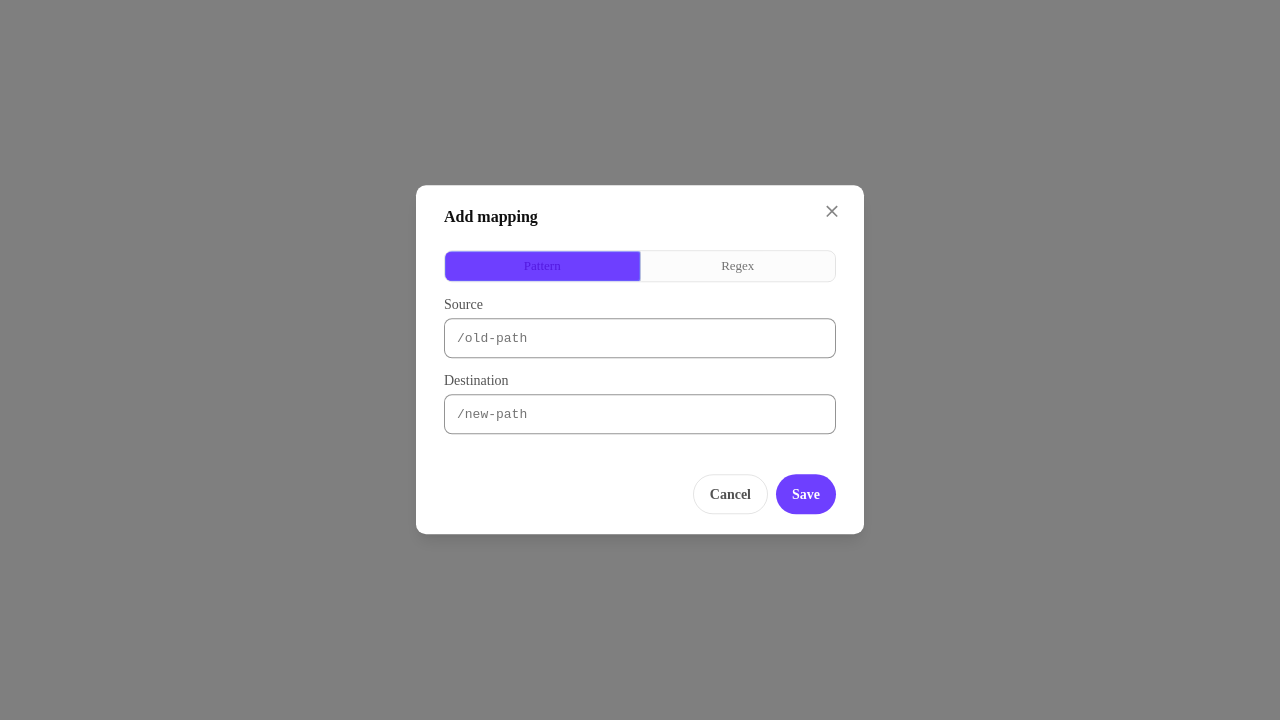
Test: T023a/T023 — Save-time validation › $0 reference in destination is rejected with appropriate message
The image size is (1280, 720).
Click the button "Regex" at (737, 266), box 640,251 -> 835,282
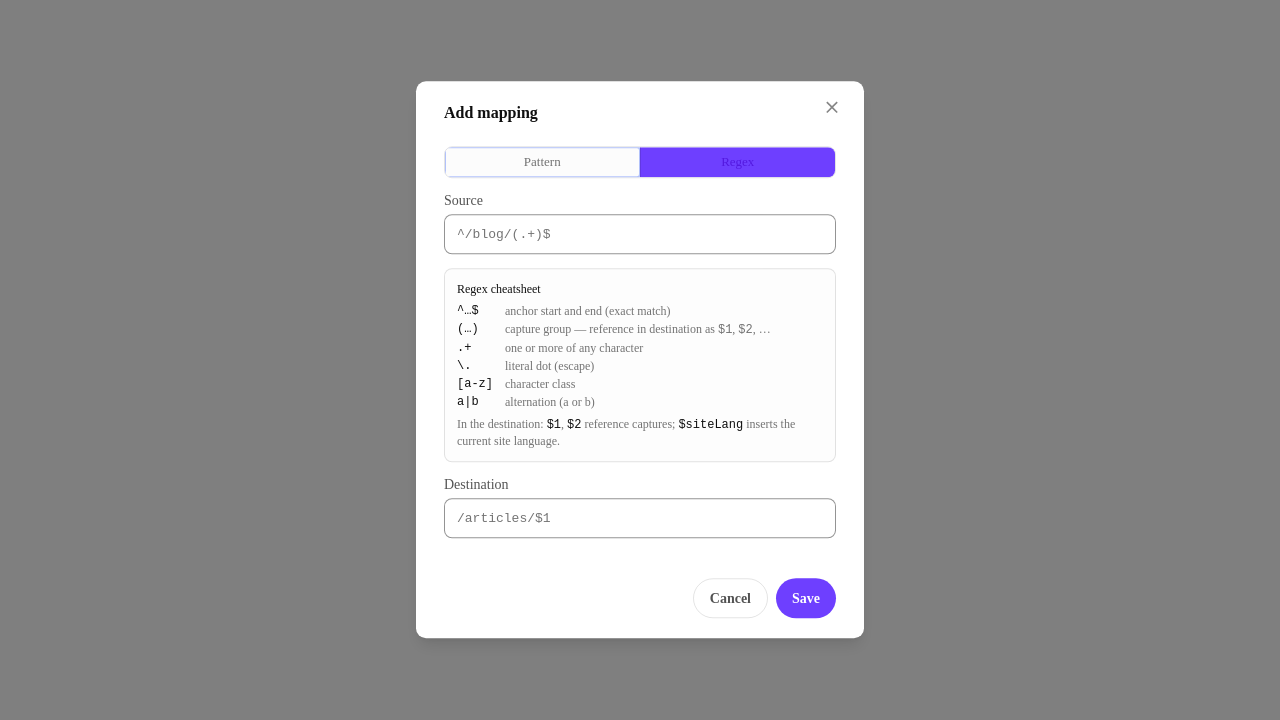
Type "^/test/(.+)$" into the field labelled "Source" at (640, 235), box 444,215 -> 836,255
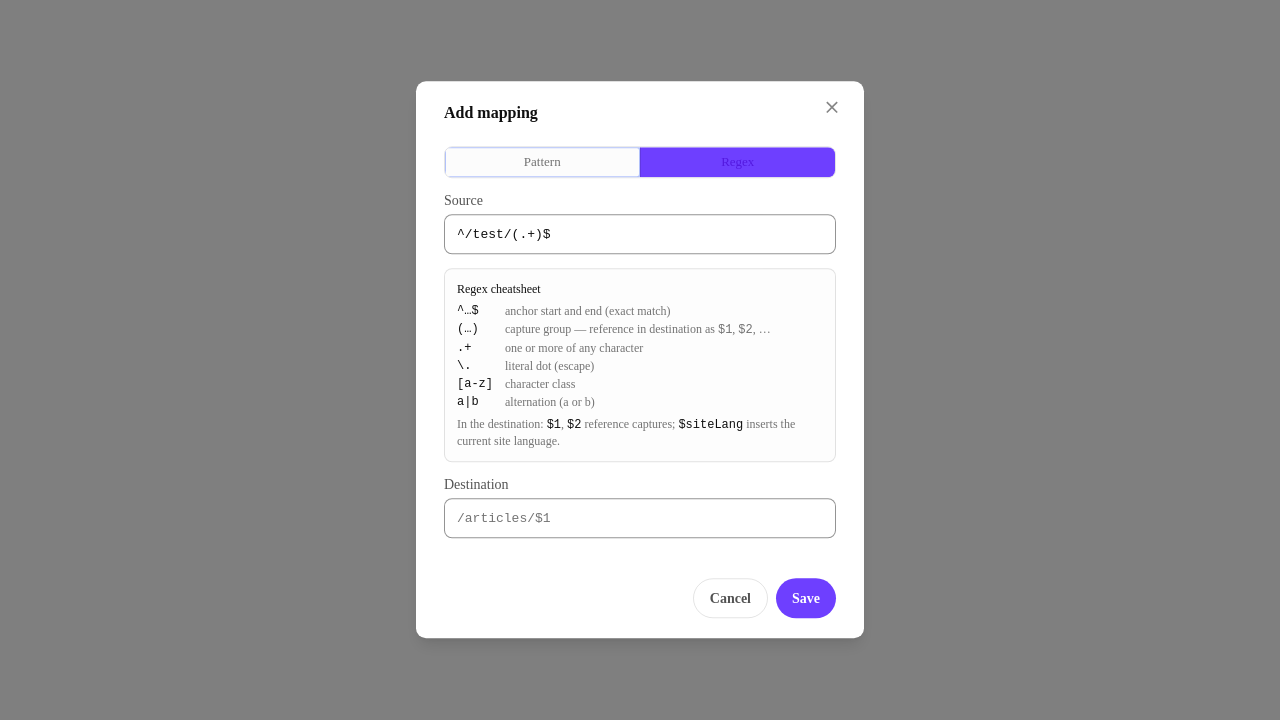
Type "/dest/$0" into the field labelled "Destination" at (640, 519), box 444,499 -> 836,539
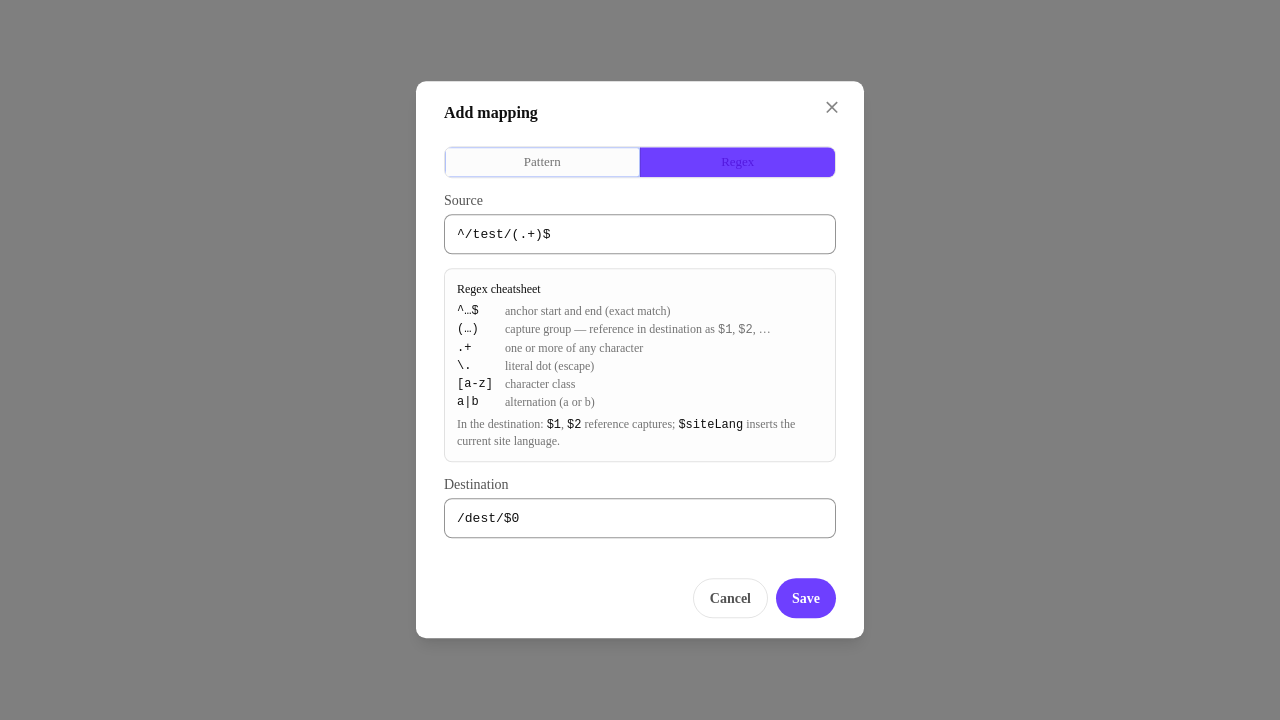
Click the button "Save" at (806, 599), box 776,579 -> 836,619
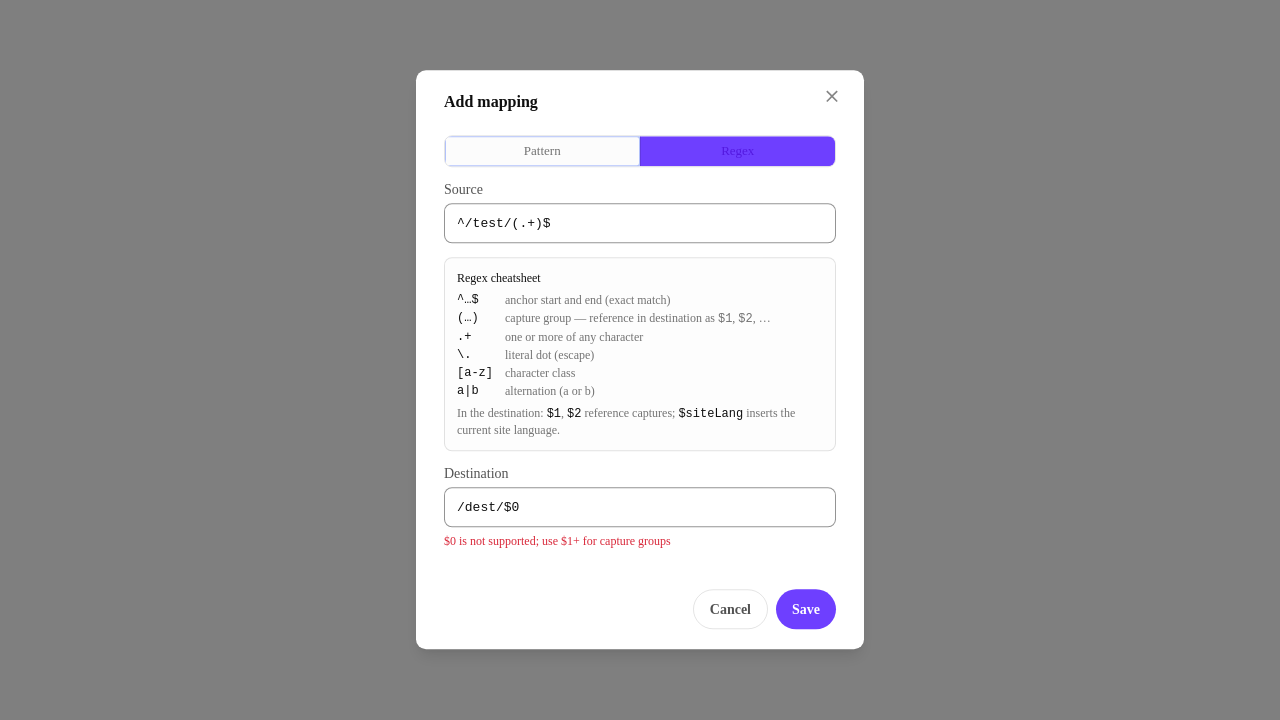
Expected: the message shows "$0 is not supported", 444,535 -> 671,549
